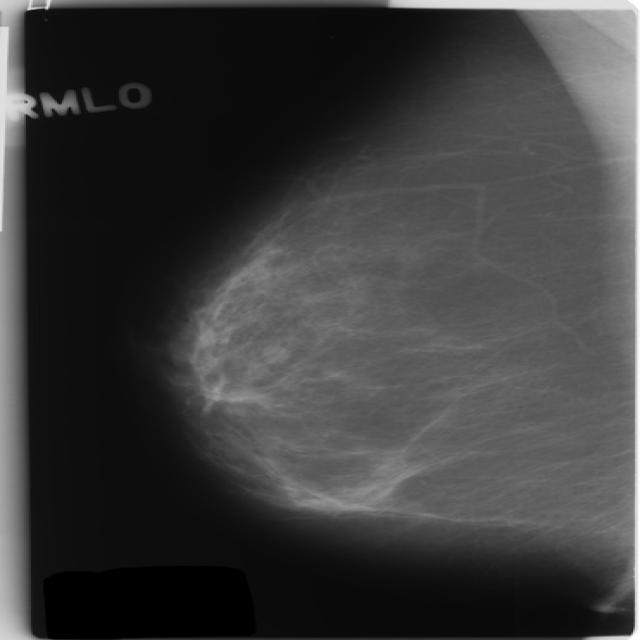tumour: (257, 342, 288, 363)
